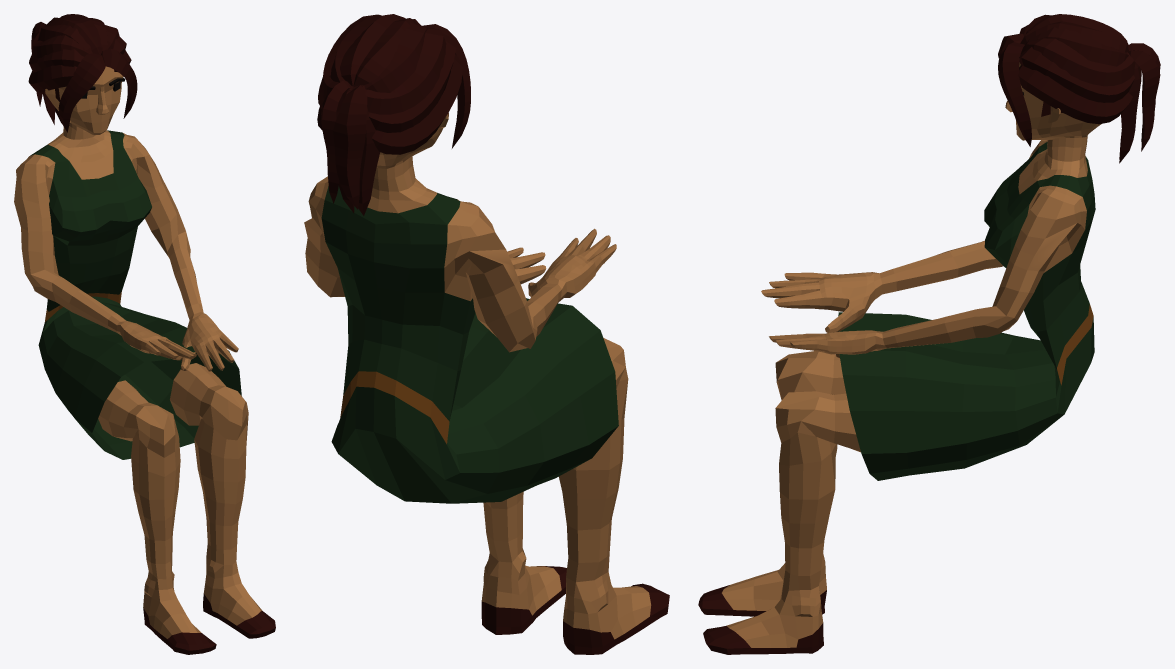
Rendered from w_dress.obj.
3 views of the same model, side by side, from view 1: azimuth 30°, elevation 25°; view 2: azimuth 150°, elevation 25°; view 3: azimuth 270°, elevation 25° (orthographic). The views are drawn at different scales.
Parts seen in each view (by area): view 1: Formal_Legs, Formal_Body, Formad_Head, Formal_Feet; view 2: Formal_Body, Formal_Legs, Formad_Head, Formal_Feet; view 3: Formal_Legs, Formal_Body, Formad_Head, Formal_Feet.
Boxes of the visible parts, x1,y1,x2,y2 form: Formal_Legs: (38, 302, 248, 563); Formal_Body: (14, 130, 238, 371); Formad_Head: (28, 14, 137, 139); Formal_Feet: (143, 543, 275, 654); Formal_Body: (304, 176, 616, 479); Formal_Legs: (338, 298, 628, 562); Formad_Head: (317, 14, 470, 215); Formal_Feet: (481, 531, 669, 654); Formal_Legs: (775, 312, 1064, 575); Formal_Body: (761, 140, 1095, 414); Formad_Head: (998, 14, 1160, 163); Formal_Feet: (698, 541, 826, 654).
Bounding box in the file's own units: 0.4546 × 1.41 × 0.9669.
